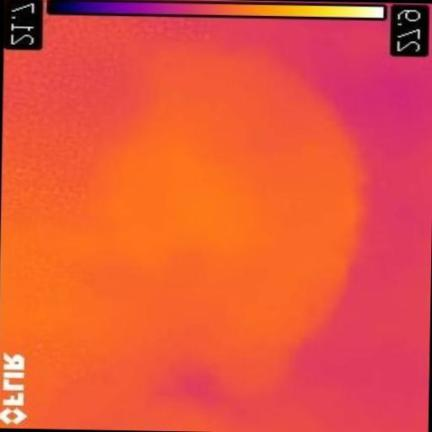mango: (92, 47, 362, 396)
